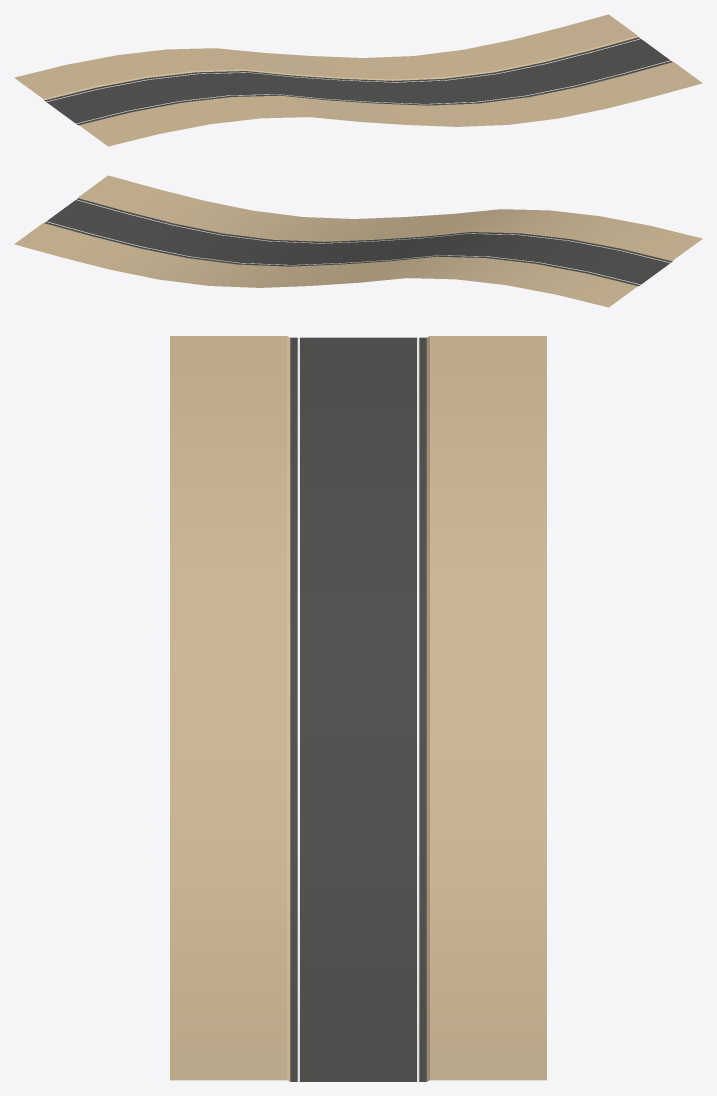
File: street_2.fbx
3 renders of one model, top to bottom at view 1: azimuth 30°, elevation 25°; view 2: azimuth 150°, elevation 25°; view 3: azimuth 270°, elevation 25°, orthographic. The views are drawn at different scales.
Parts seen in each view (by area): view 1: bridge_7; view 2: bridge_7; view 3: bridge_7.
Part boxes in pixels (<box>): bridge_7: <box>14,14,702,146</box>; bridge_7: <box>14,175,702,307</box>; bridge_7: <box>170,336,546,1081</box>.
Bounding box in the file's own units: 6111 × 831 × 1676.
